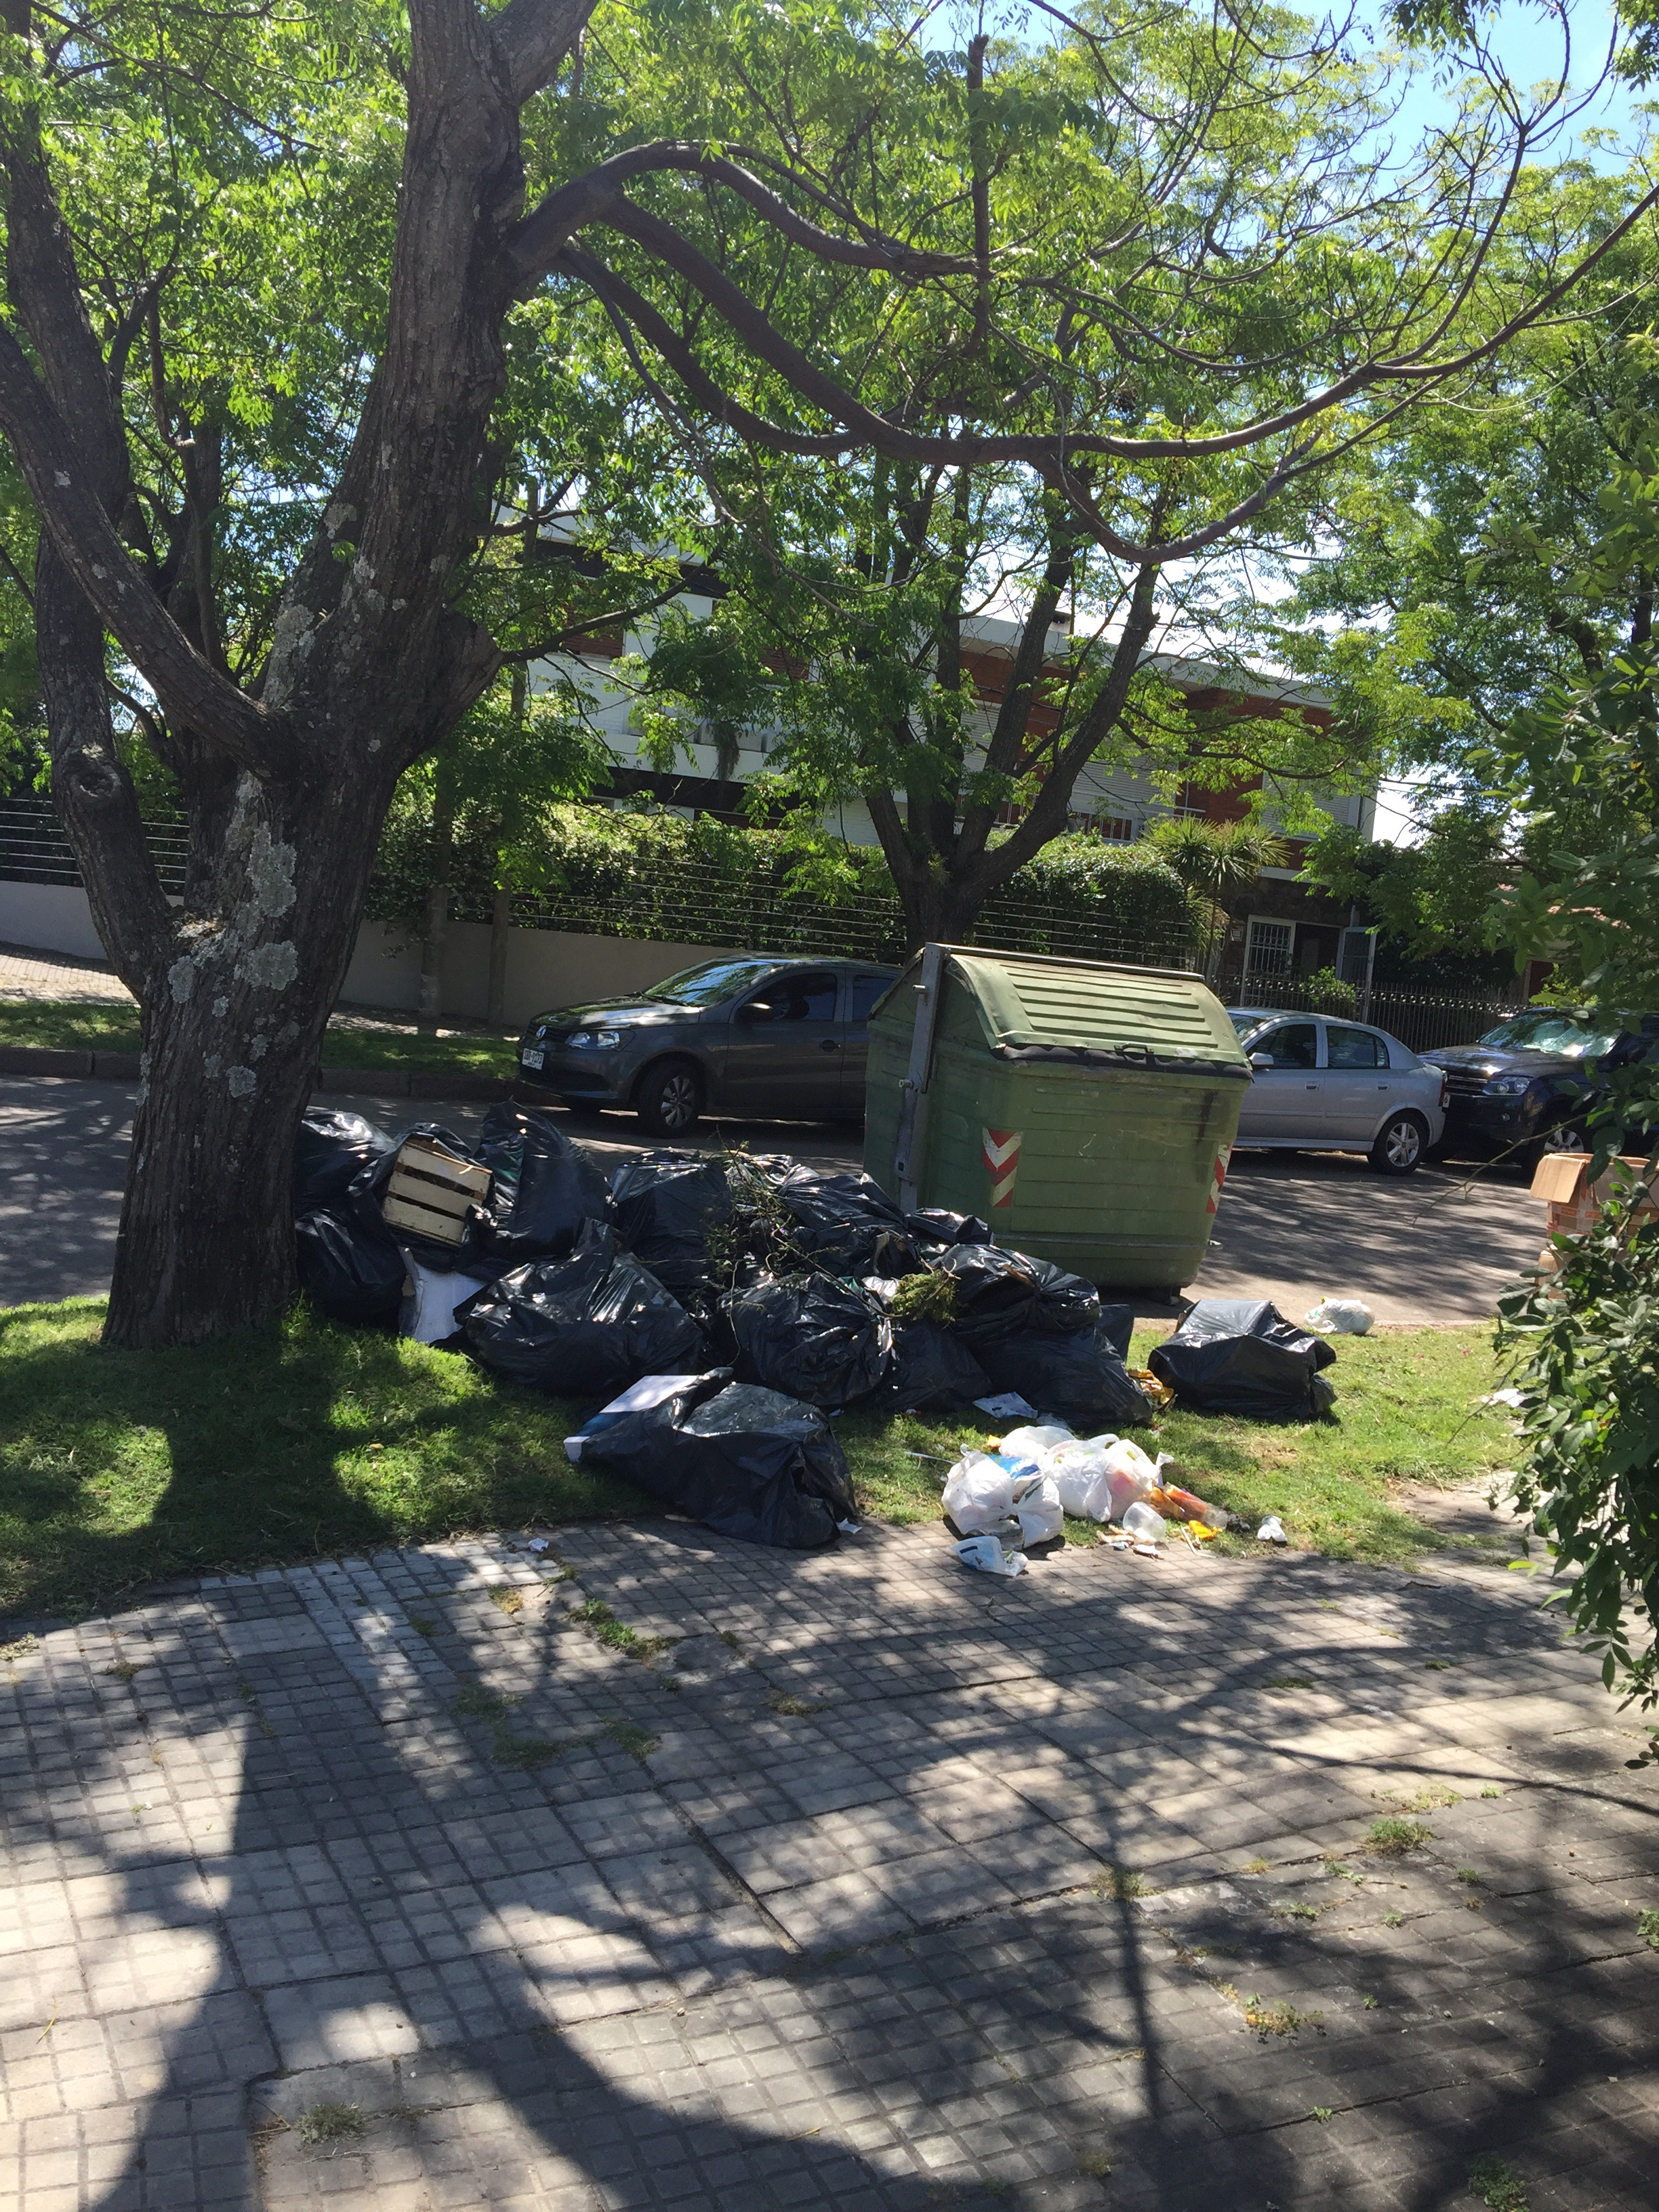container: (857, 935, 1253, 1301)
